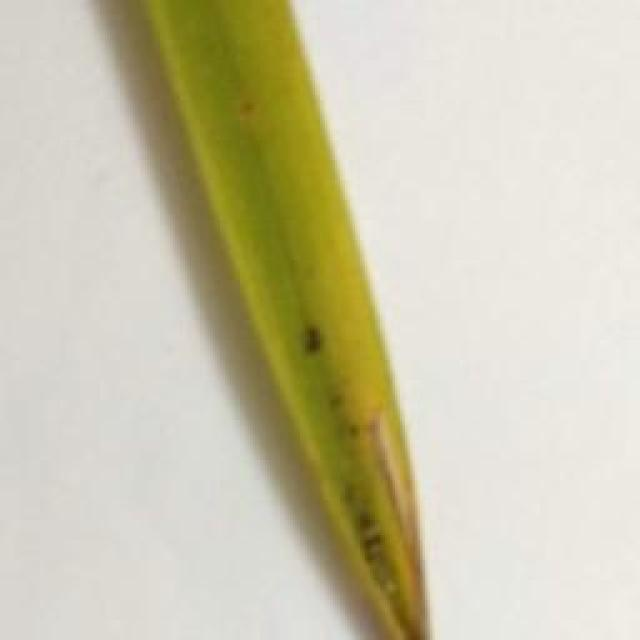Brown_Spot: (342, 476, 382, 586), (292, 305, 332, 367), (232, 87, 266, 125)
Rice_Blast: (362, 398, 432, 573)
